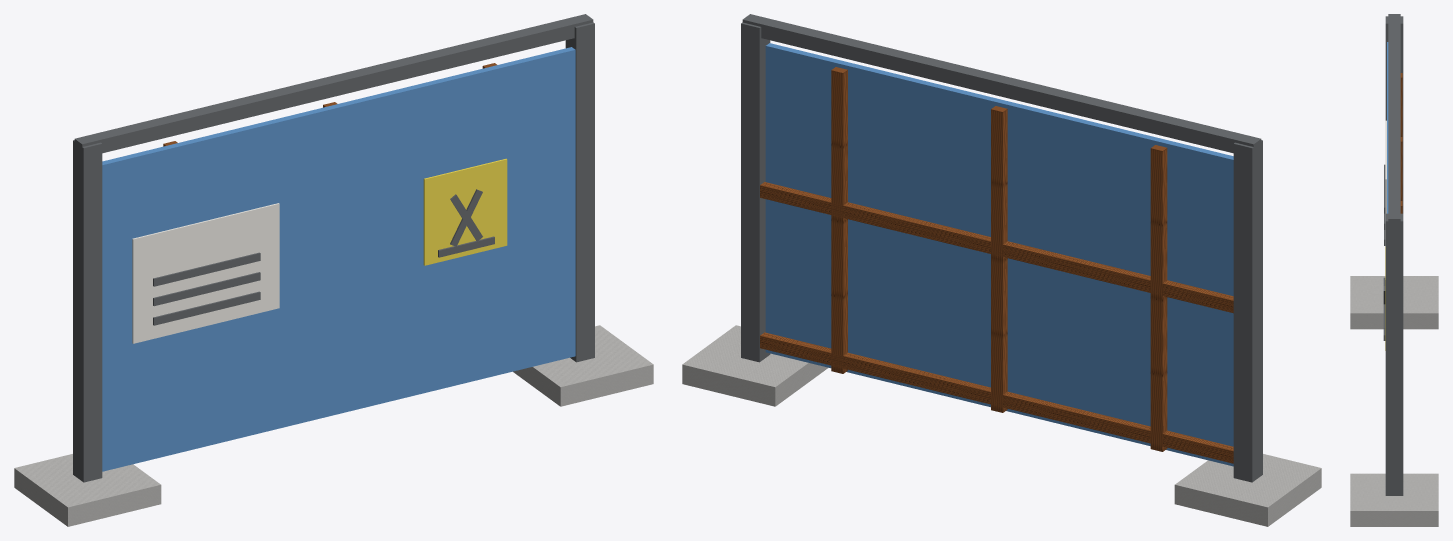
The model's file is demolition-and-site-clearance-demolition-and-site-clea-ae0790ba__35668.glb.
3 renders of one model, left to right at view 1: azimuth 30°, elevation 25°; view 2: azimuth 150°, elevation 25°; view 3: azimuth 270°, elevation 25°, orthographic. The views are drawn at different scales.
Parts seen in each view (by area): view 1: demolition-and-site-clearance-hoarding-panel; view 2: demolition-and-site-clearance-hoarding-panel; view 3: demolition-and-site-clearance-hoarding-panel.
Part boxes in pixels (<box>): demolition-and-site-clearance-hoarding-panel: <box>14,14,653,526</box>; demolition-and-site-clearance-hoarding-panel: <box>682,14,1321,526</box>; demolition-and-site-clearance-hoarding-panel: <box>1350,14,1438,526</box>.
Size of the model in its own units: 4.4 by 2.56 by 0.6999.
Materials: 6 (2 with a texture image).
